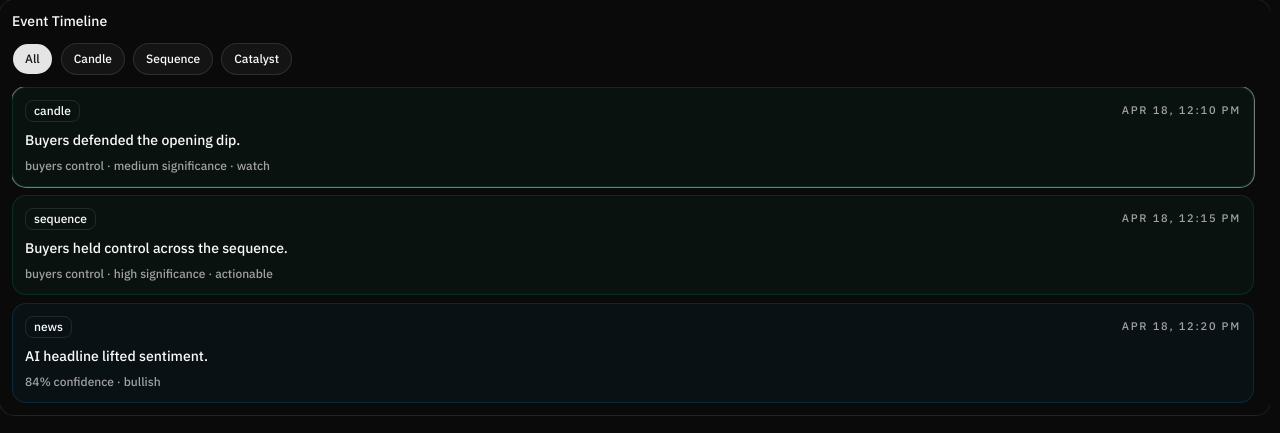
EventTimeline › filters items by level and falls back to a visible selection
Click the button "Catalyst". click: (257, 59)
box: x1=221 y1=43 x2=292 y2=75
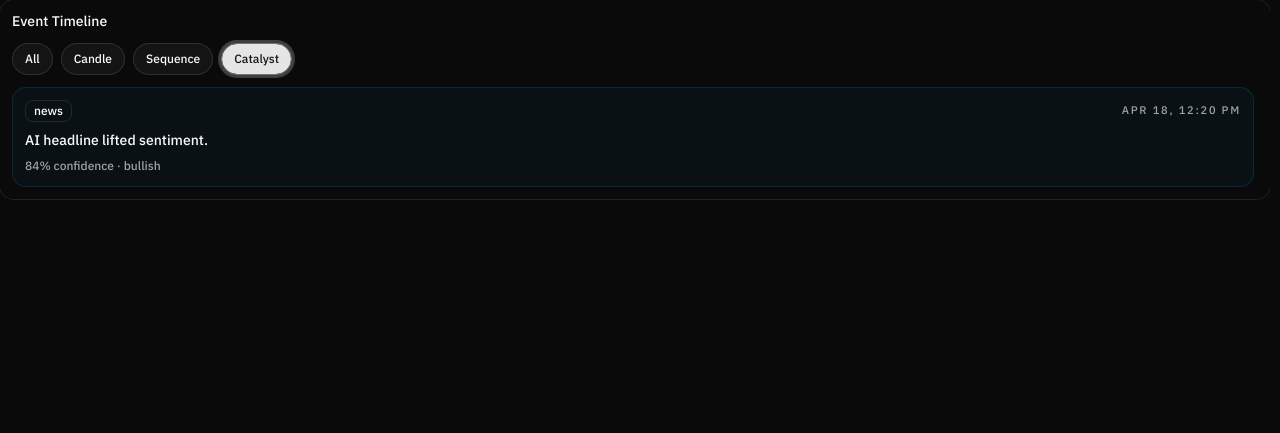
Check: the text "AI headline lifted sentiment." is shown, box x1=25 y1=131 x2=208 y2=149
Check: the button "Buyers defended the opening dip." is gone
